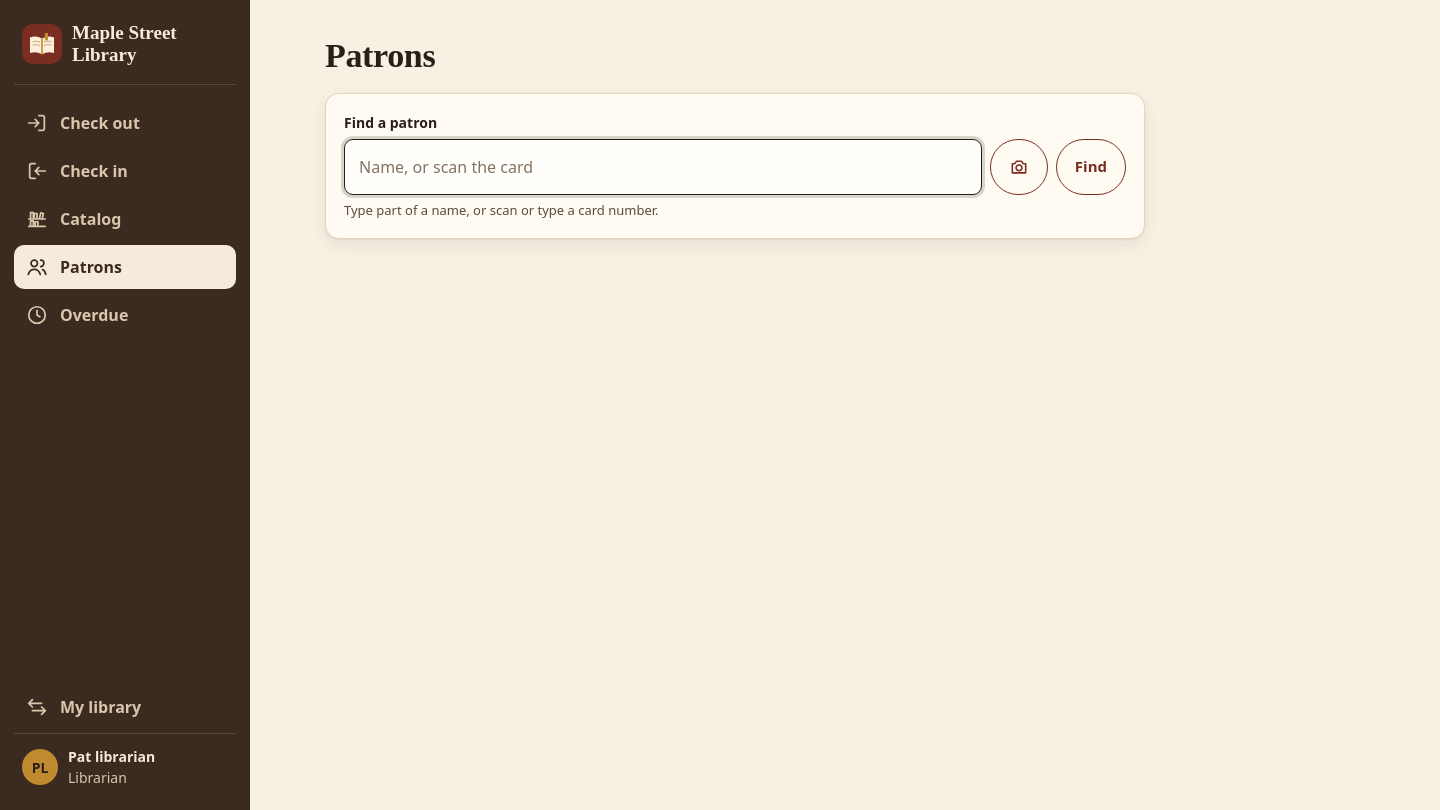
it: CIRC-3 Patron lookup › Lookup: a librarian finds a patron by name and both loans, the overdue one flagged, are shown
This screenshot has width=1440, height=810.
In the field labelled "Find a patron": (663, 167) left=344, top=139, right=982, bottom=195, type "maya"
Then press Enter
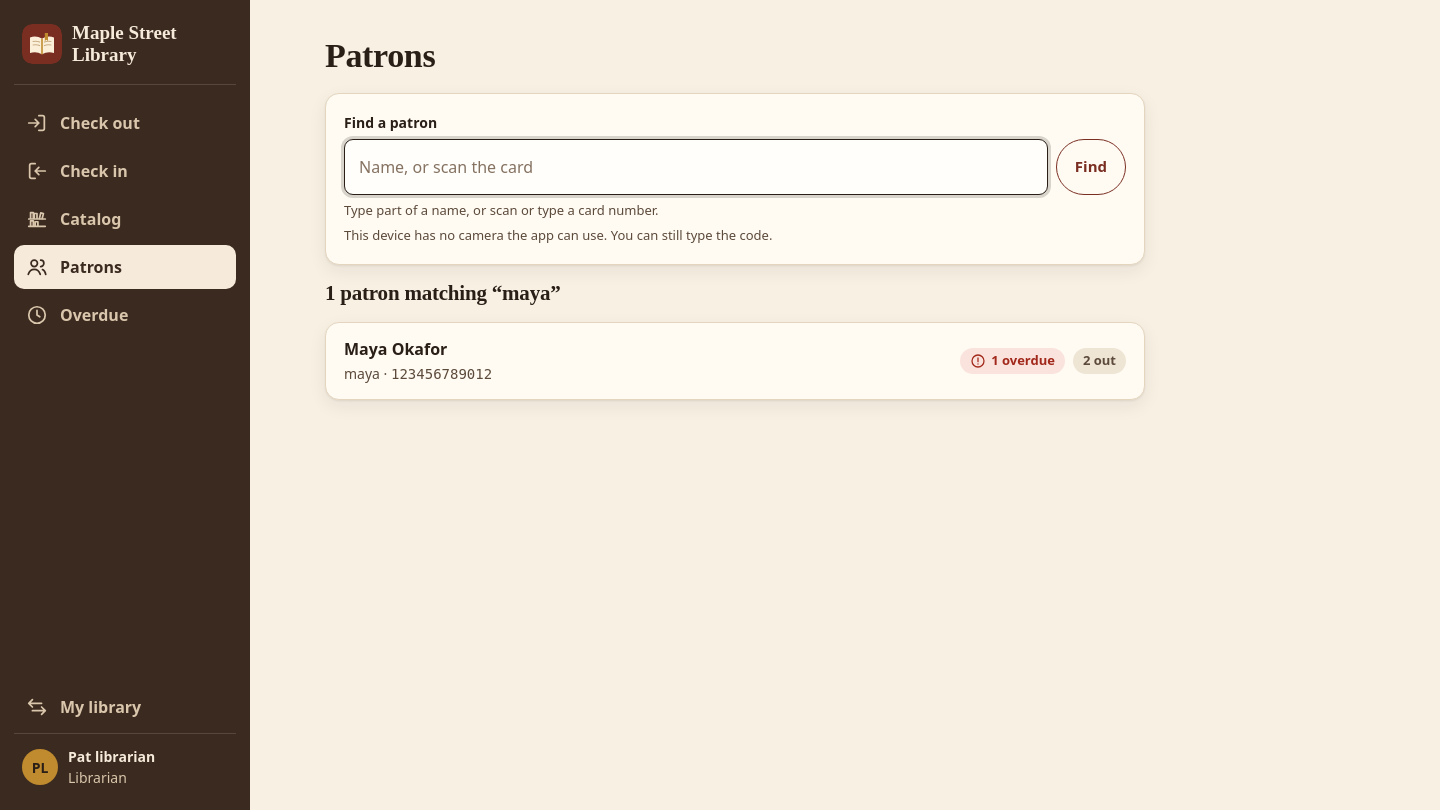
Now the link "Maya Okafor maya · 123456789012 1 overdue 2 out" is shown
Click the link "Maya Okafor maya · 123456789012 1 overdue 2 out": (396, 349) left=344, top=338, right=1126, bottom=383
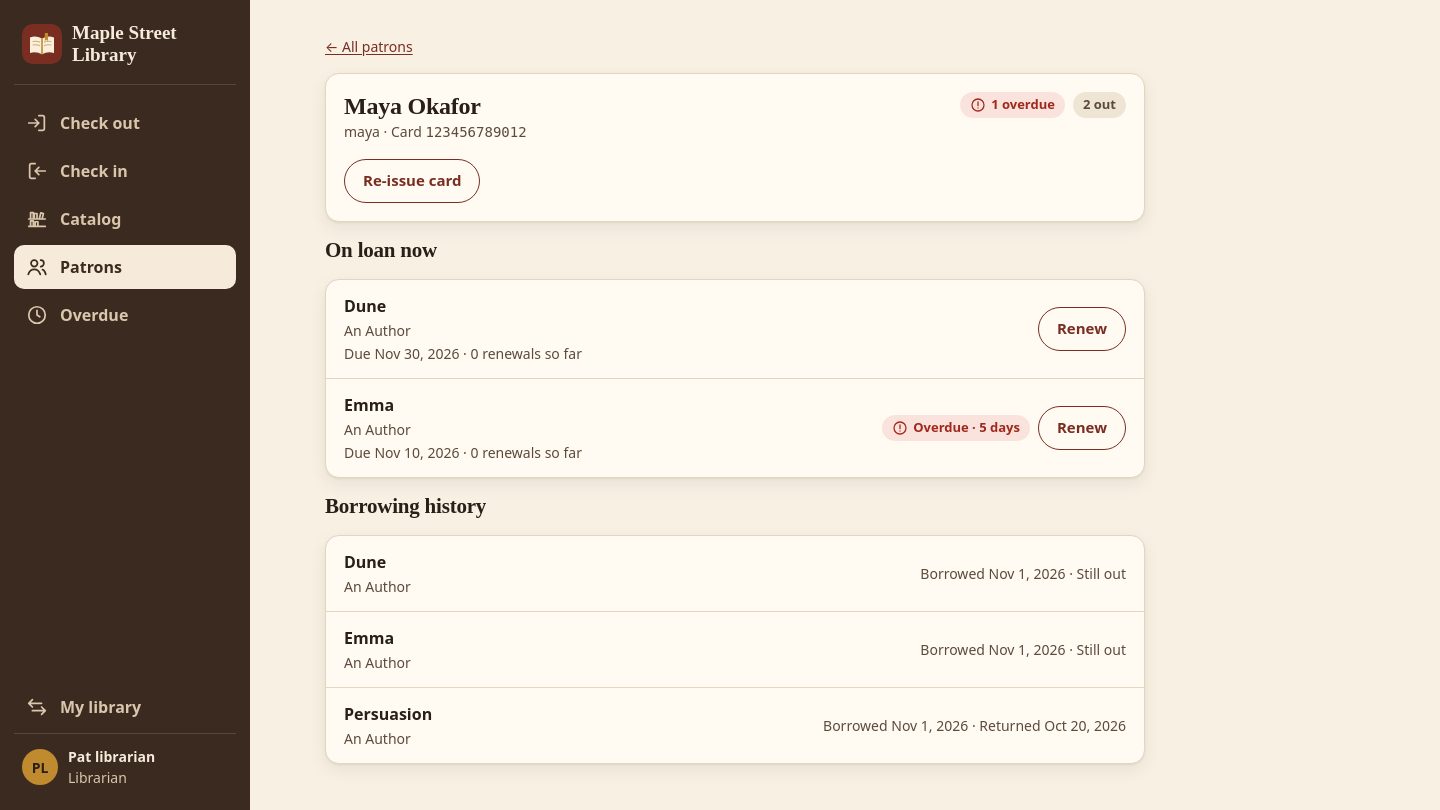
Now the text "Dune" below "On loan now" is shown, box left=344, top=295, right=386, bottom=317
Now the text "Emma" below "Nov 30, 2026" is shown, box left=344, top=394, right=394, bottom=416
Now the text "Overdue · 5 days" is shown, box left=882, top=415, right=1030, bottom=441
